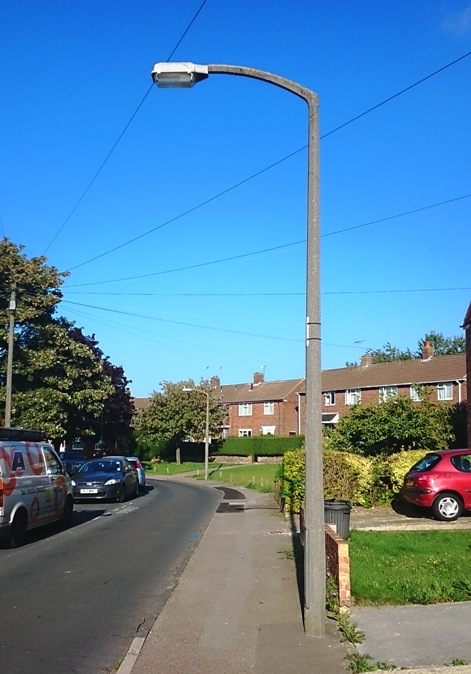car: (1, 439, 94, 532), (388, 443, 471, 526), (65, 448, 155, 508)
pole: (145, 44, 371, 640)
